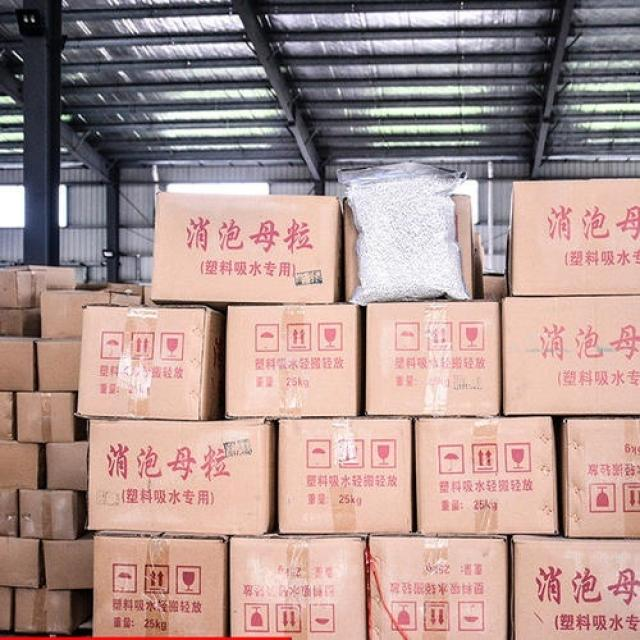box: (151, 192, 346, 314), (84, 417, 279, 536), (413, 403, 559, 535), (74, 303, 225, 420), (499, 294, 640, 415), (278, 413, 415, 534), (506, 178, 640, 296), (227, 305, 366, 417), (367, 302, 502, 417), (365, 531, 508, 639), (230, 527, 367, 639), (92, 530, 230, 637), (508, 534, 640, 639), (558, 417, 640, 539), (15, 585, 93, 634), (41, 288, 111, 338), (19, 489, 86, 539), (15, 390, 77, 443), (42, 535, 92, 590), (36, 338, 81, 392), (0, 438, 47, 489), (451, 195, 474, 298), (0, 334, 40, 392), (0, 538, 45, 588), (340, 197, 360, 301), (47, 442, 88, 492), (0, 269, 47, 308), (5, 265, 77, 289), (0, 307, 40, 337), (0, 488, 20, 536), (0, 392, 18, 440), (110, 283, 143, 306), (0, 586, 15, 631), (484, 273, 507, 301)
